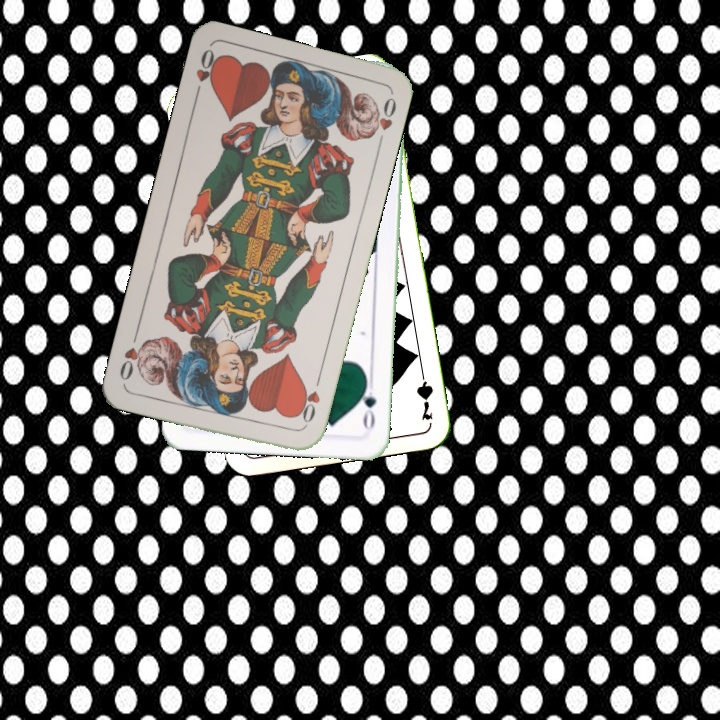G7: (412, 364, 436, 423)
GO: (356, 375, 379, 434)
HO: (190, 45, 222, 103), (293, 373, 323, 431)
